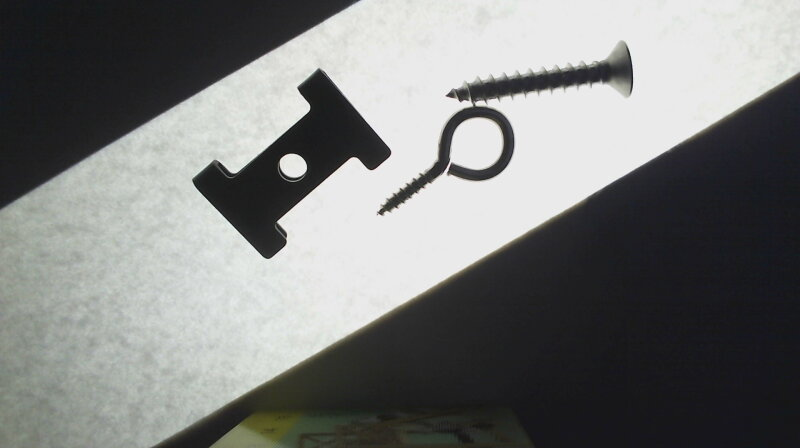O001: (371, 102, 517, 216)
O002: (188, 66, 393, 261)
S001: (443, 37, 640, 105)
